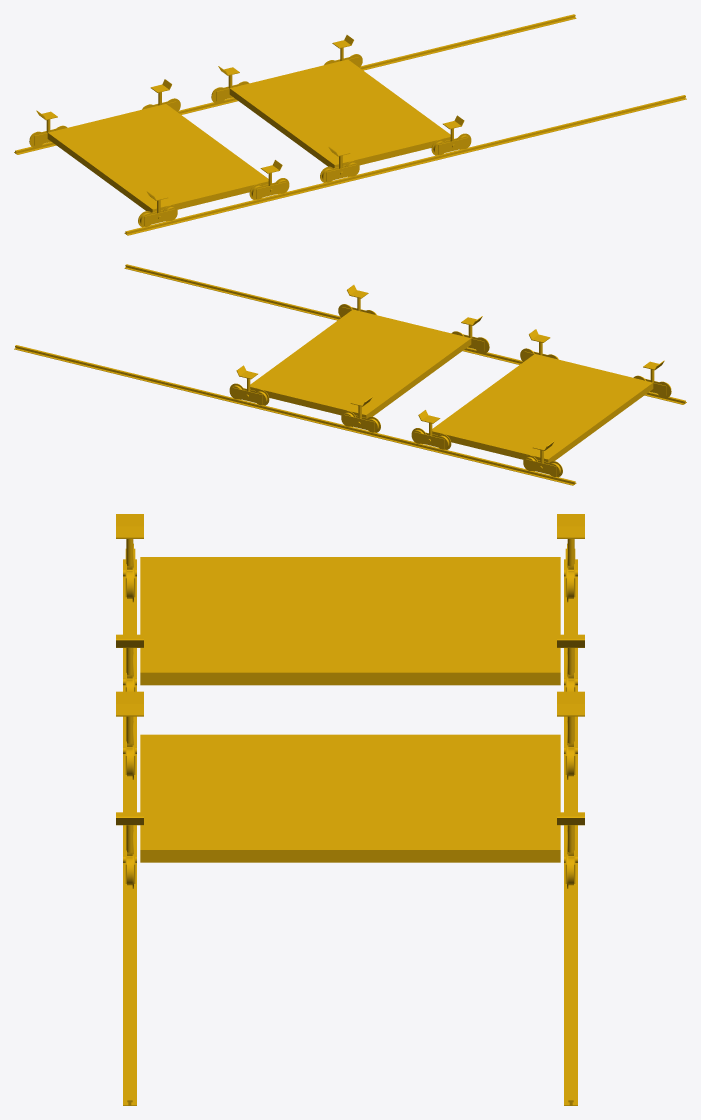
Rendered from Trolley_turbine.fbx.
The picture shows the model from 3 angles, top to bottom: view 1: azimuth 30°, elevation 25°; view 2: azimuth 150°, elevation 25°; view 3: azimuth 270°, elevation 25°; orthographic projection. The views are drawn at different scales.
Parts seen in each view (by area): view 1: Trolleys; view 2: Trolleys; view 3: Trolleys.
Boxes of the visible parts, left/top/right/bottom form: Trolleys: left=14, top=14, right=686, bottom=235; Trolleys: left=14, top=264, right=686, bottom=485; Trolleys: left=116, top=514, right=584, bottom=1105.
Size of the model in its own units: 1844 by 111 by 670.
